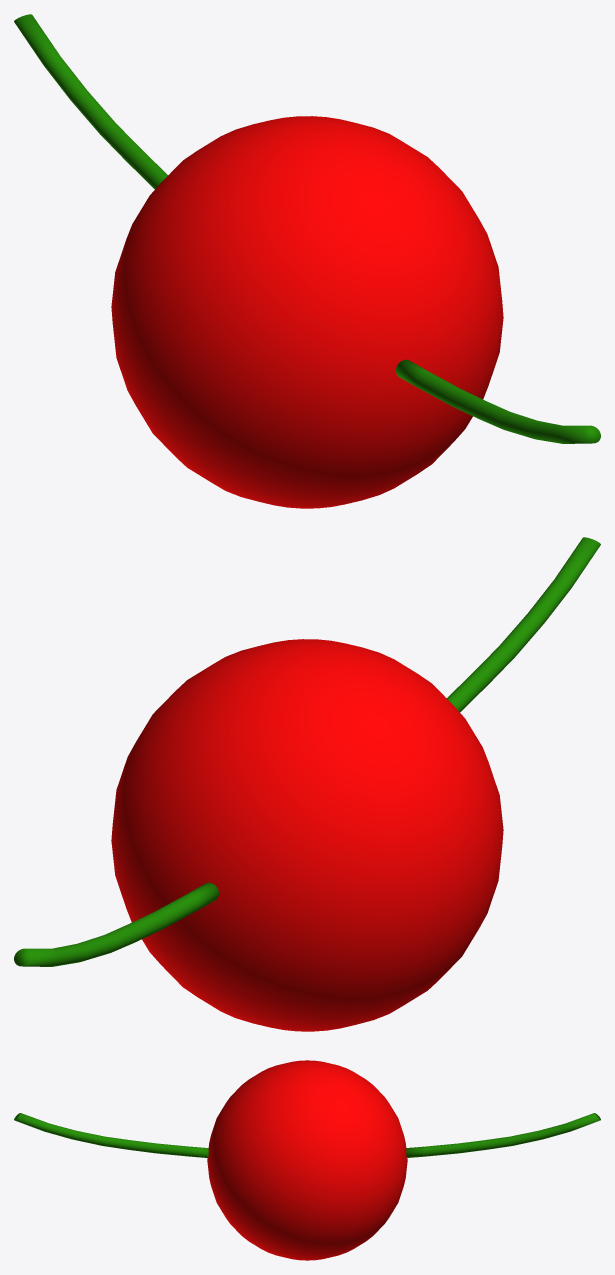
Rendered from SuspendedBowl.fbx.
3 renders of one model, top to bottom at view 1: azimuth 30°, elevation 25°; view 2: azimuth 150°, elevation 25°; view 3: azimuth 270°, elevation 25°, orthographic. The views are drawn at different scales.
Parts seen in each view (by area): view 1: Sphere, Cylinder; view 2: Sphere, Cylinder; view 3: Sphere, Cylinder.
Boxes of the visible parts, x1=… form: Sphere: x1=111, y1=116, x2=503, y2=508; Cylinder: x1=14, y1=14, x2=600, y2=443; Sphere: x1=111, y1=639, x2=503, y2=1031; Cylinder: x1=14, y1=537, x2=600, y2=966; Sphere: x1=207, y1=1060, x2=407, y2=1260; Cylinder: x1=14, y1=1113, x2=600, y2=1157.
Size of the model in its own units: 200 by 200 by 586.
